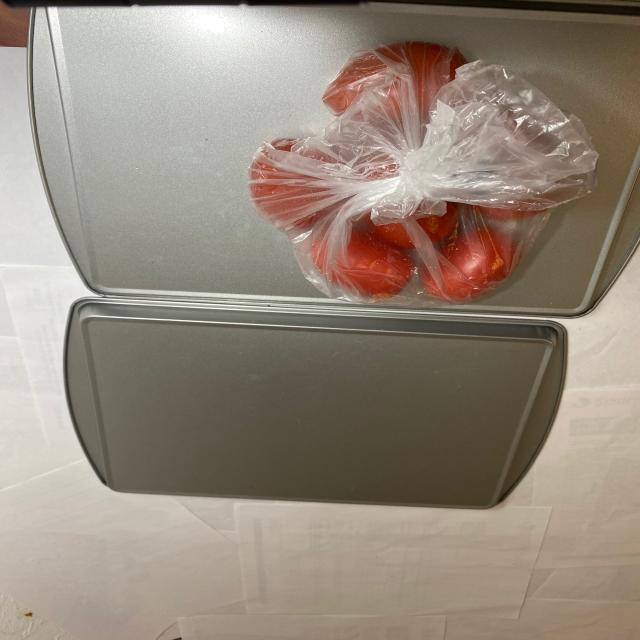tomato: (255, 41, 561, 304)
